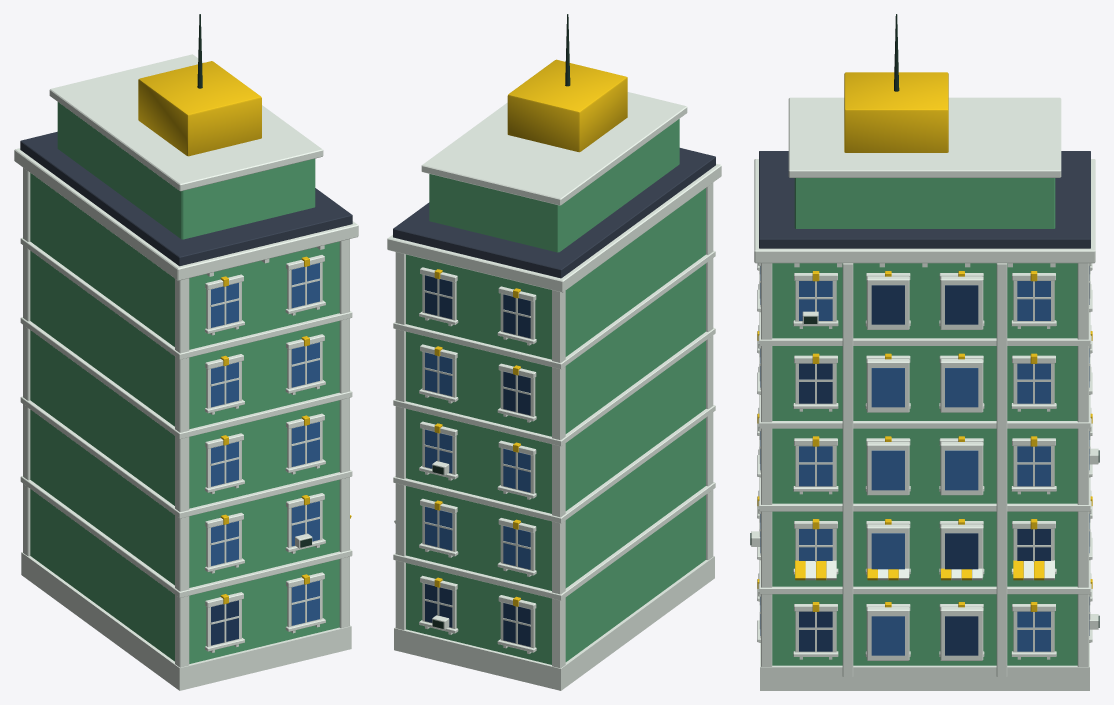
File: edificio_4.glb
The picture shows the model from 3 angles, left to right: view 1: azimuth 30°, elevation 25°; view 2: azimuth 150°, elevation 25°; view 3: azimuth 270°, elevation 25°; orthographic projection. The views are drawn at different scales.
Visible parts, largest first — view 1: Edificio_4_Esmeralda; view 2: Edificio_4_Esmeralda; view 3: Edificio_4_Esmeralda.
Part boxes in pixels (x1=…): Edificio_4_Esmeralda: x1=14, y1=14, x2=358, y2=690; Edificio_4_Esmeralda: x1=387, y1=14, x2=721, y2=690; Edificio_4_Esmeralda: x1=750, y1=14, x2=1099, y2=690.
Size of the model in its own units: 9.82 by 29.47 by 14.73.
